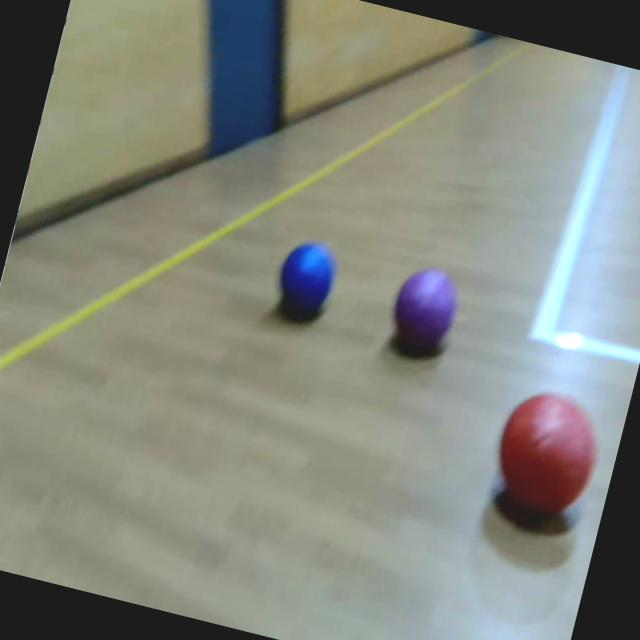blue_ball: (272, 236, 341, 316)
purple_ball: (383, 262, 463, 357)
red_ball: (484, 384, 610, 522)
